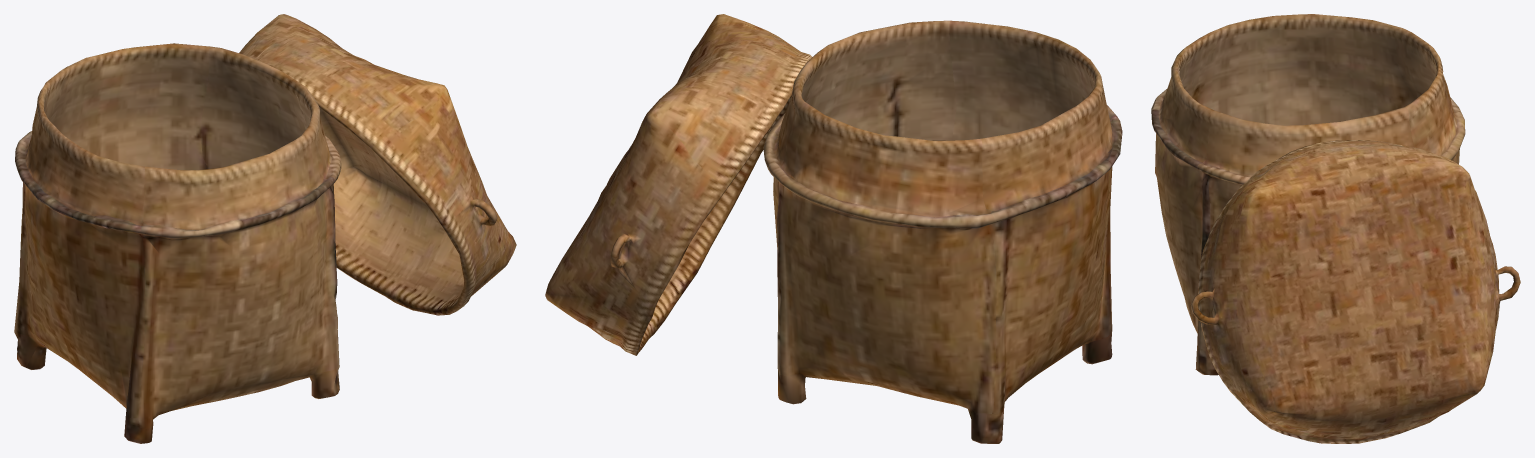
File: wicker_basket_02.glb
3 views of the same model, side by side, from view 1: azimuth 30°, elevation 25°; view 2: azimuth 150°, elevation 25°; view 3: azimuth 270°, elevation 25° (orthographic). The views are drawn at different scales.
Visible parts, largest first — view 1: wicker_basket_02_base; view 2: wicker_basket_02_base; view 3: wicker_basket_02_base.
Boxes of the visible parts, left/top/right/bottom form: wicker_basket_02_base: left=14, top=14, right=516, bottom=443; wicker_basket_02_base: left=545, top=14, right=1122, bottom=443; wicker_basket_02_base: left=1151, top=14, right=1520, bottom=443.
Size of the model in its own units: 0.3469 by 0.2004 by 0.2541.
1 material, 1 textured.
